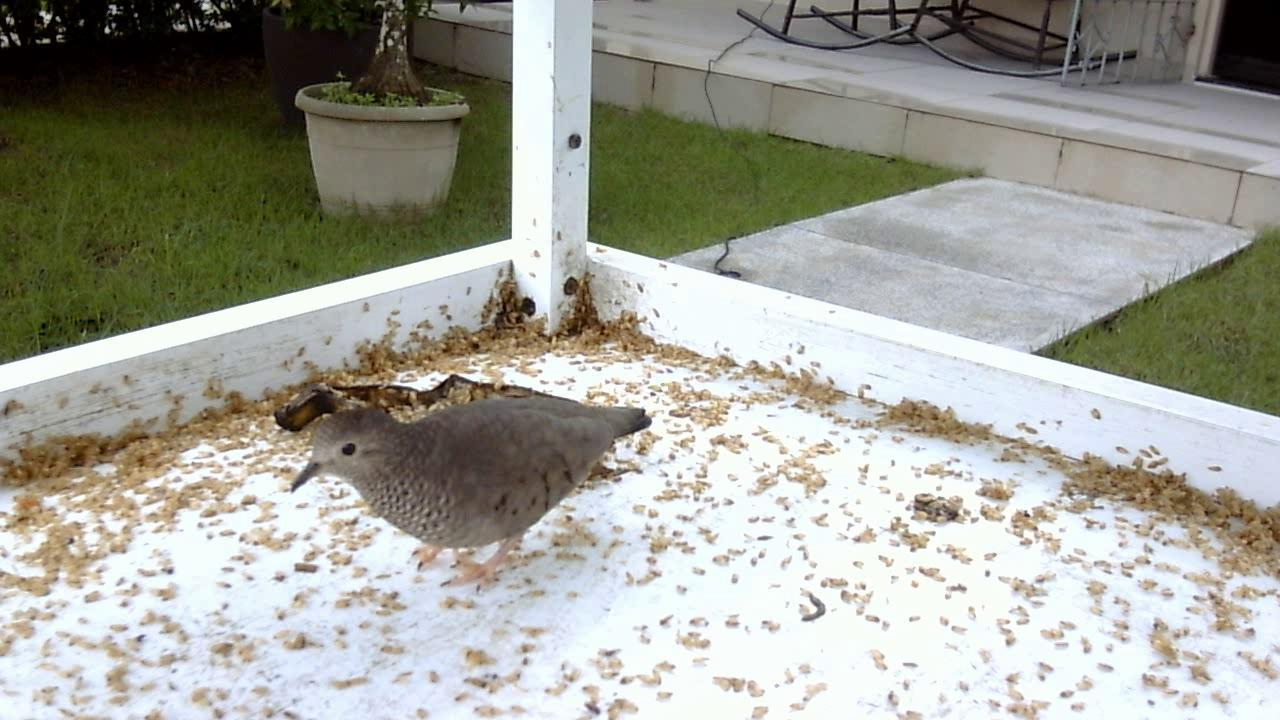rolinha: (282, 373, 663, 603)
